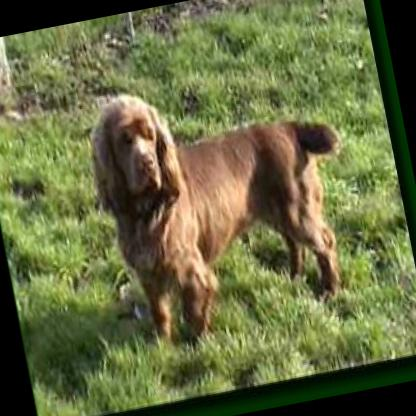Sussex_spaniel: (76, 52, 368, 356)
